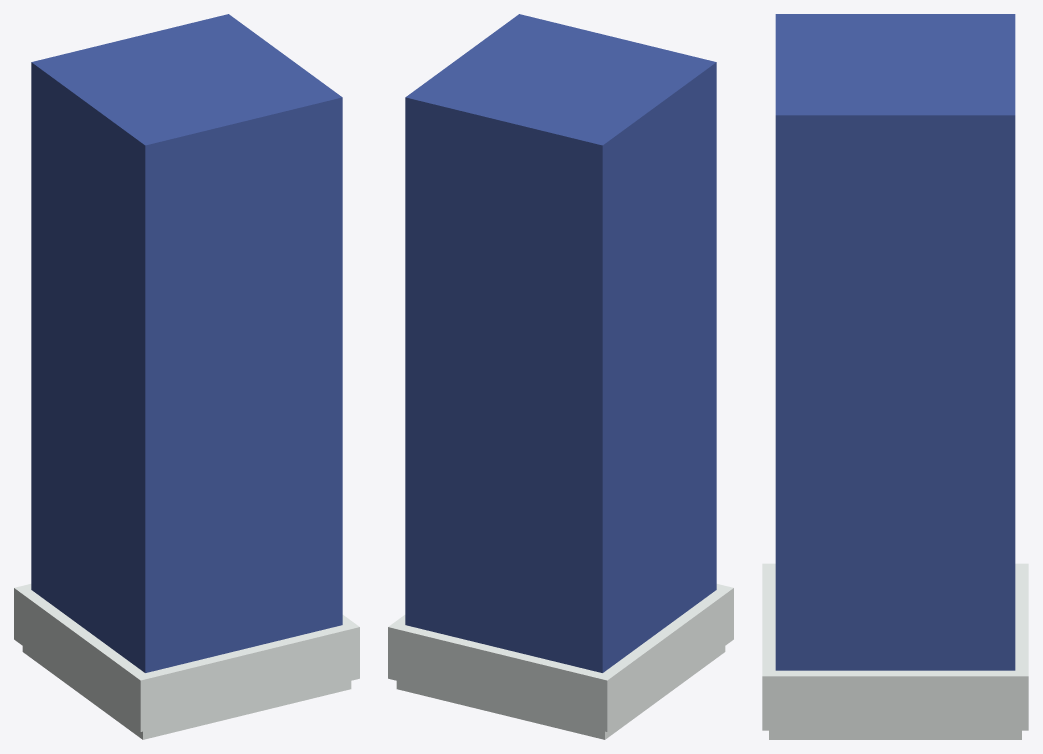
Rendered from RightUpperLeg.obj.
3 views of the same model, side by side, from view 1: azimuth 30°, elevation 25°; view 2: azimuth 150°, elevation 25°; view 3: azimuth 270°, elevation 25° (orthographic). The views are drawn at different scales.
Bounding box in the file's own units: 4 × 10.3 × 4.
1 material, 1 textured.
